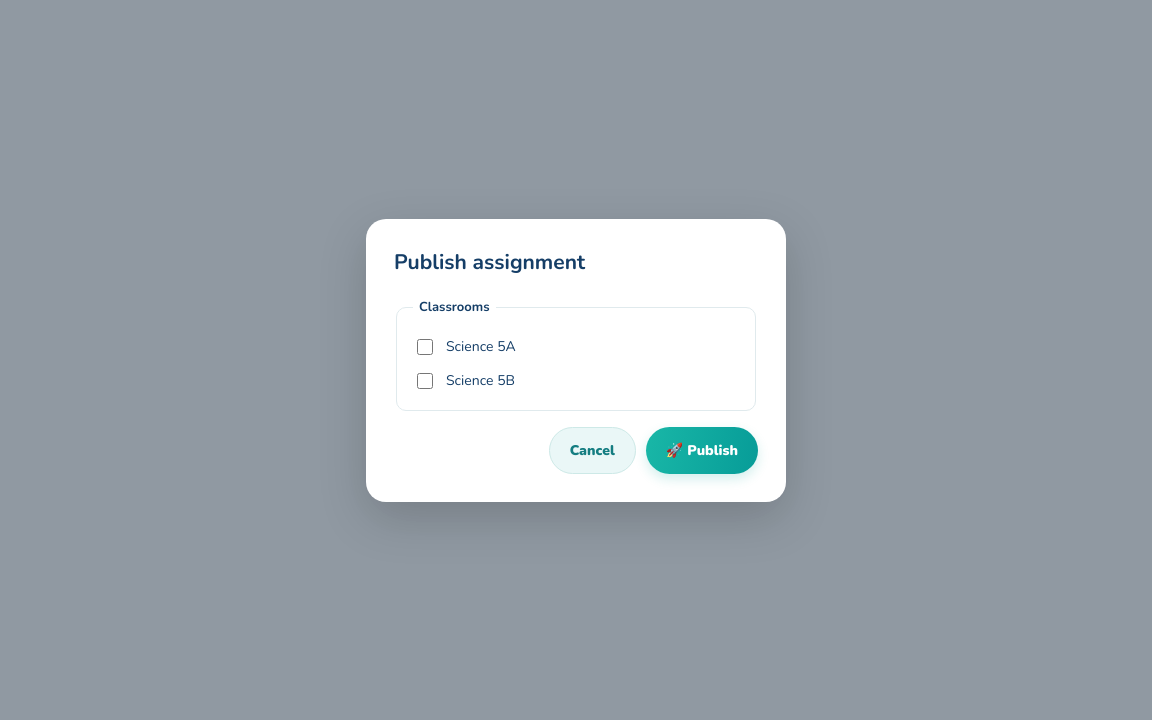
Test case: publish modal shows error when no classroom is selected
Note: Click Publish with nothing selected
What coordinates should you click on to do the following:
click the button "🚀 Publish"
I would click on:
 (702, 450)
Its box is [646, 426, 758, 474].
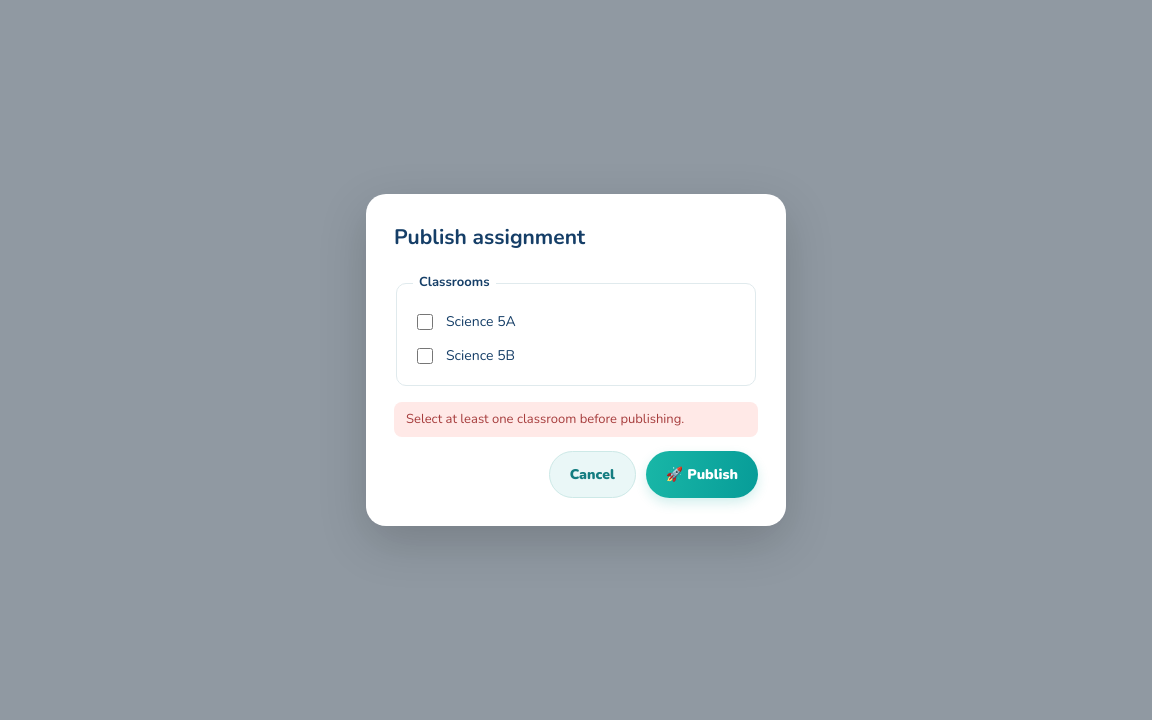
Expected: the message shows "at least one classroom", [406, 410, 684, 428]
